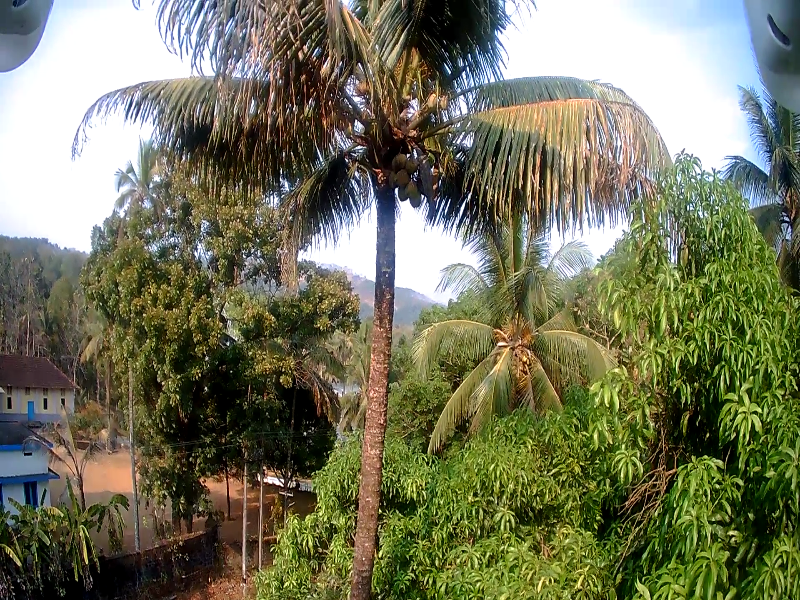coconut: (410, 187, 424, 214), (394, 168, 408, 191), (442, 90, 454, 114), (396, 185, 410, 205), (427, 93, 439, 116), (395, 154, 409, 167), (408, 181, 417, 199)
